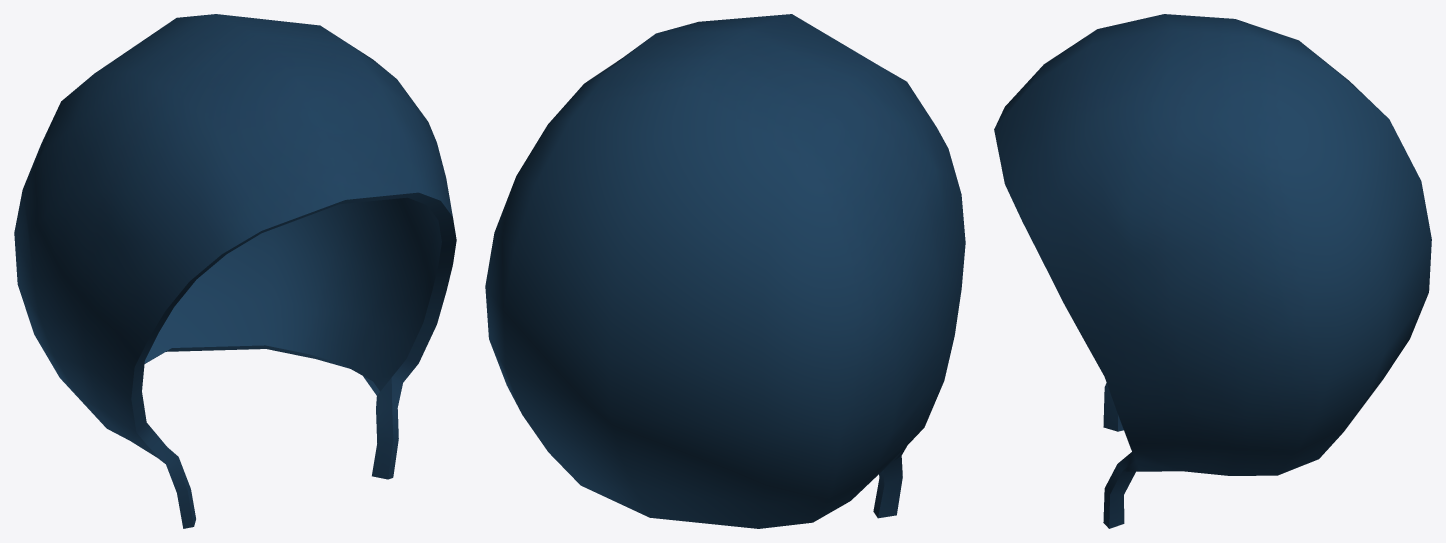
The model's file is mod_prop_scout_hat.fbx.
The picture shows the model from 3 angles, left to right: view 1: azimuth 30°, elevation 25°; view 2: azimuth 150°, elevation 25°; view 3: azimuth 270°, elevation 25°; orthographic projection. The views are drawn at different scales.
Visible parts, largest first — view 1: mod_prop_scout_hat; view 2: mod_prop_scout_hat; view 3: mod_prop_scout_hat.
Boxes of the visible parts, <box> form: mod_prop_scout_hat: <box>14,14,456,528</box>; mod_prop_scout_hat: <box>485,14,965,528</box>; mod_prop_scout_hat: <box>994,14,1431,528</box>.
Size of the model in its own units: 30.9 by 36.38 by 32.26.
